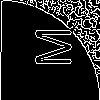M: (25, 25, 72, 69)
